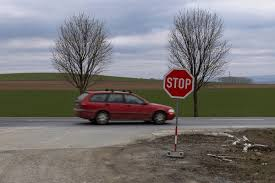stop sign: (164, 68, 193, 98)
